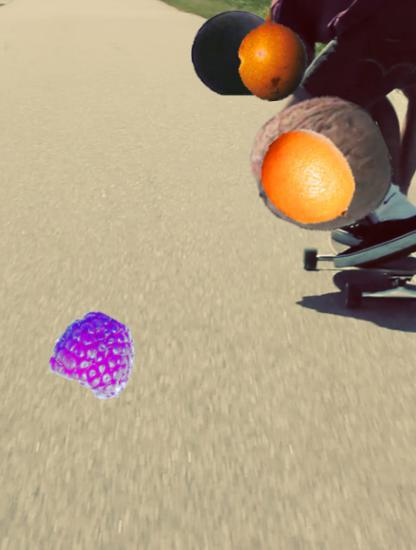Granadilla: (226, 8, 320, 102)
Grape: (191, 7, 283, 99)
Lemon: (257, 128, 362, 233)
Raspberry: (54, 311, 139, 396)
Walnut: (251, 96, 390, 235)
